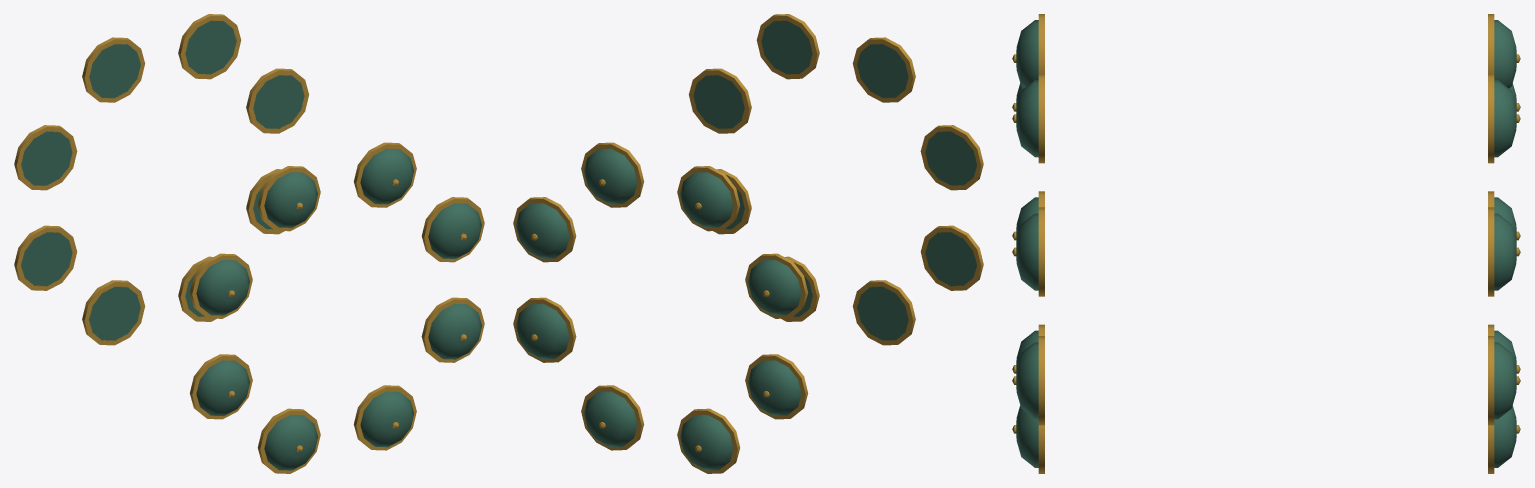
The model's file is h5_dampers.obj.
The picture shows the model from 3 angles, left to right: view 1: azimuth 30°, elevation 25°; view 2: azimuth 150°, elevation 25°; view 3: azimuth 270°, elevation 25°; orthographic projection. The views are drawn at different scales.
Visible parts, largest first — view 1: h5_dampers; view 2: h5_dampers; view 3: h5_dampers.
Part boxes in pixels (bbox=[...]): h5_dampers: bbox=[14, 14, 484, 473]; h5_dampers: bbox=[513, 14, 983, 473]; h5_dampers: bbox=[1012, 14, 1520, 473].
Size of the model in its own units: 2.08 by 2.08 by 2.45.
